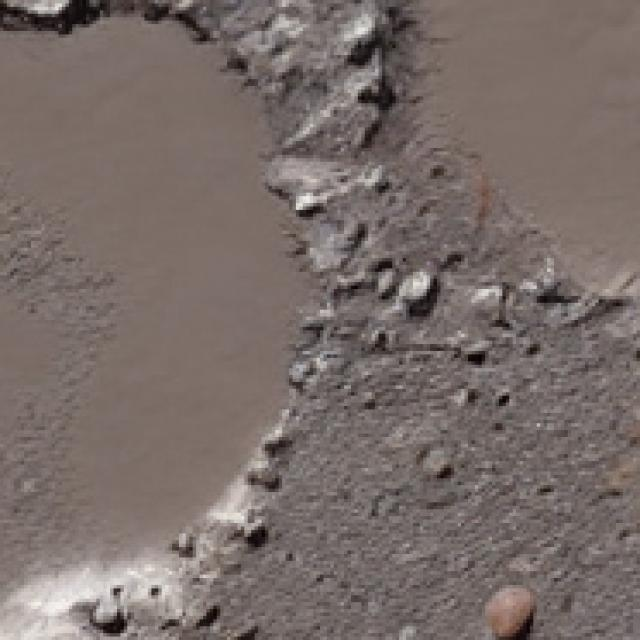Crater: (0, 0, 358, 640), (344, 0, 640, 354)
